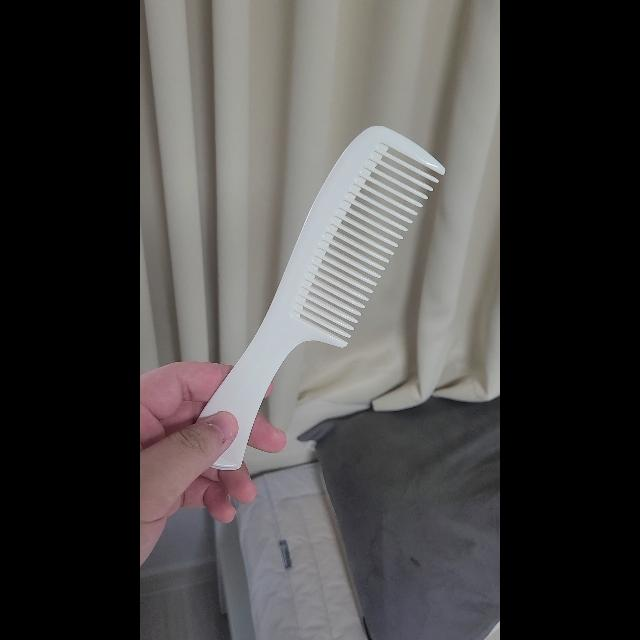COMB: (197, 126, 445, 470)
